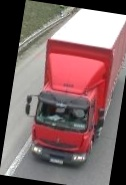truck: (17, 2, 126, 173)
